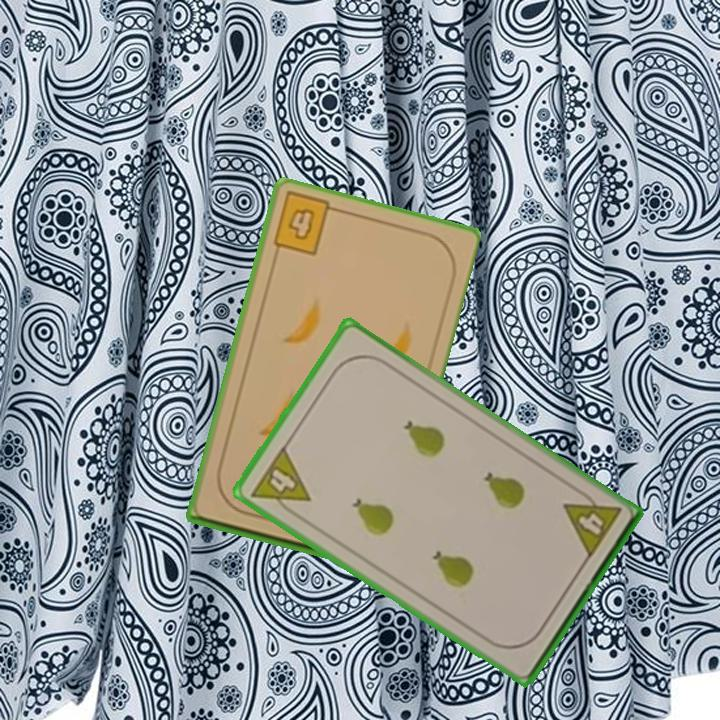4b: (269, 189, 342, 259)
4p: (246, 442, 314, 522), (559, 484, 624, 562)
